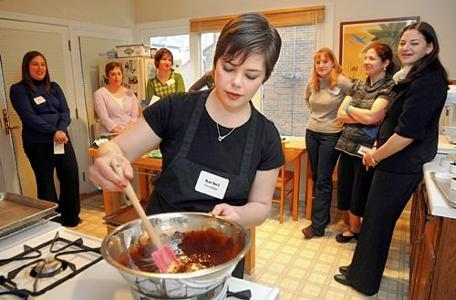person: (91, 16, 283, 283)
